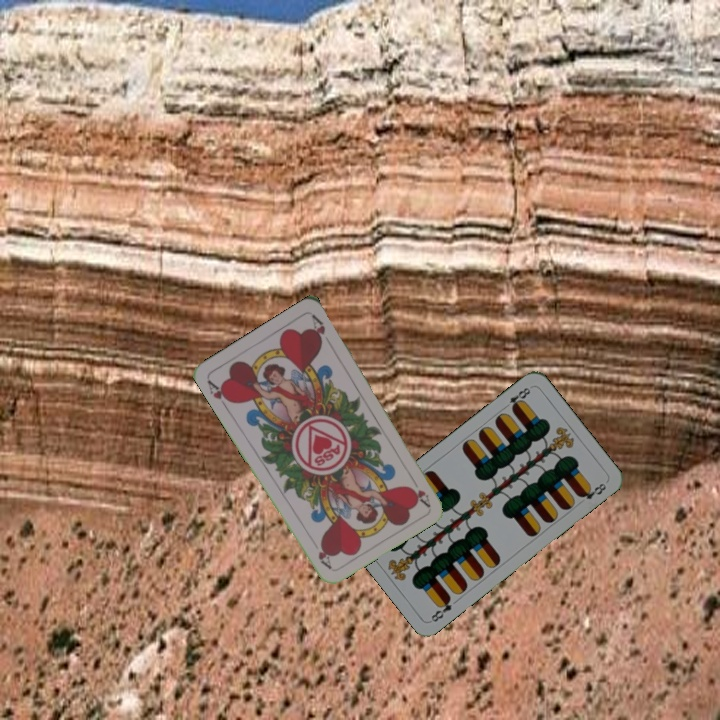E8: (499, 383, 533, 413), (427, 592, 455, 625)
HA: (203, 375, 234, 412), (407, 483, 433, 509)
